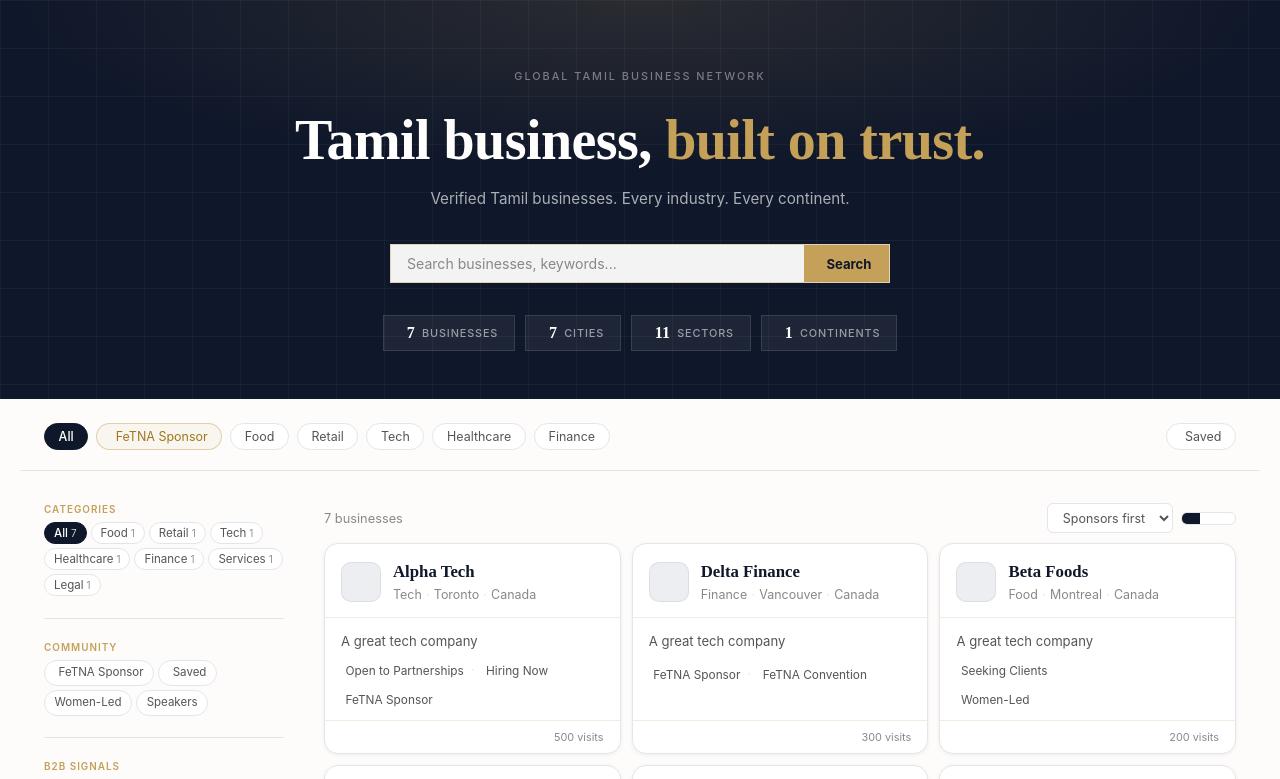
DirectoryClient — business detail modal › opens ClaimModal from non-pro business card
The width and height of the screenshot is (1280, 779).
Beta Foods is non-pro → index 2 after pro-first sort (Alpha Tech, Delta Finance come first)
Step 1. Click the element with class "biz-card" that starts with "Beta Foods" → (1088, 648), box [940,543,1236,754]
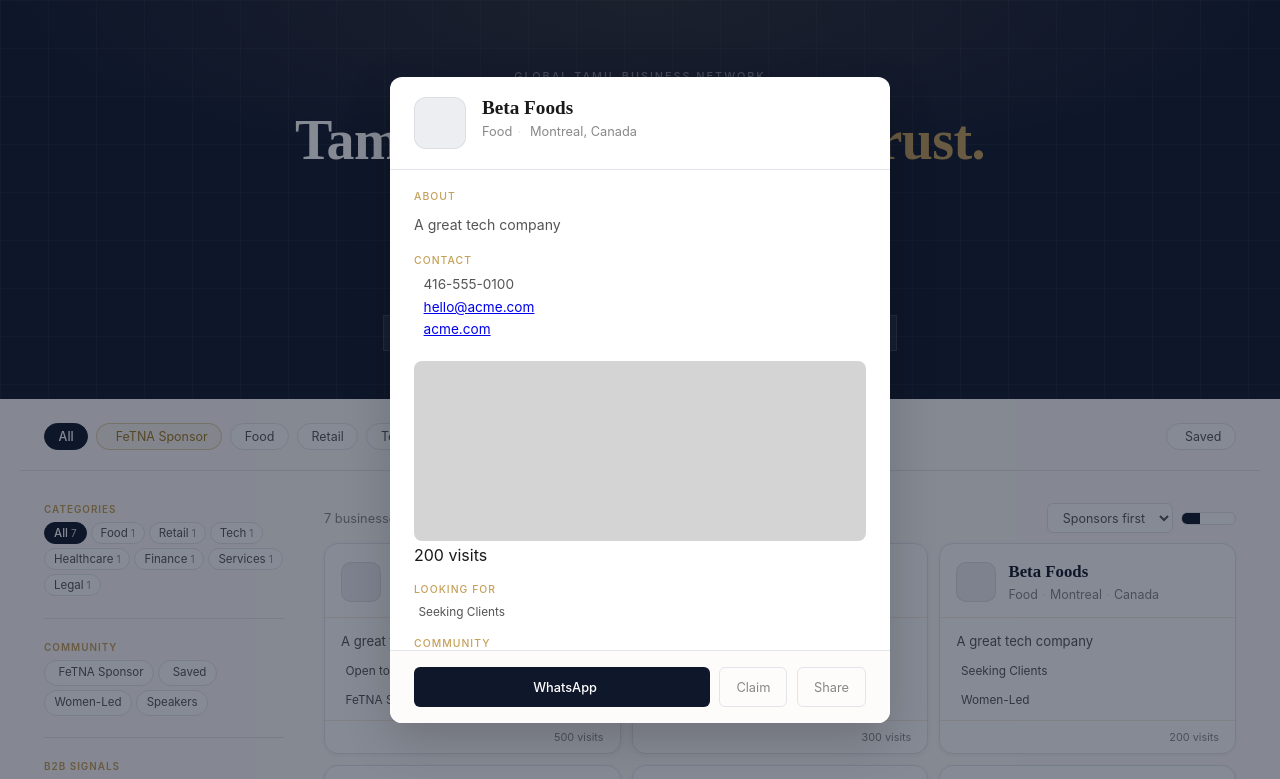
Opens BusinessModal with Claim footer button
Step 2. Click the button "Claim" → (753, 687), box [719,667,787,707]
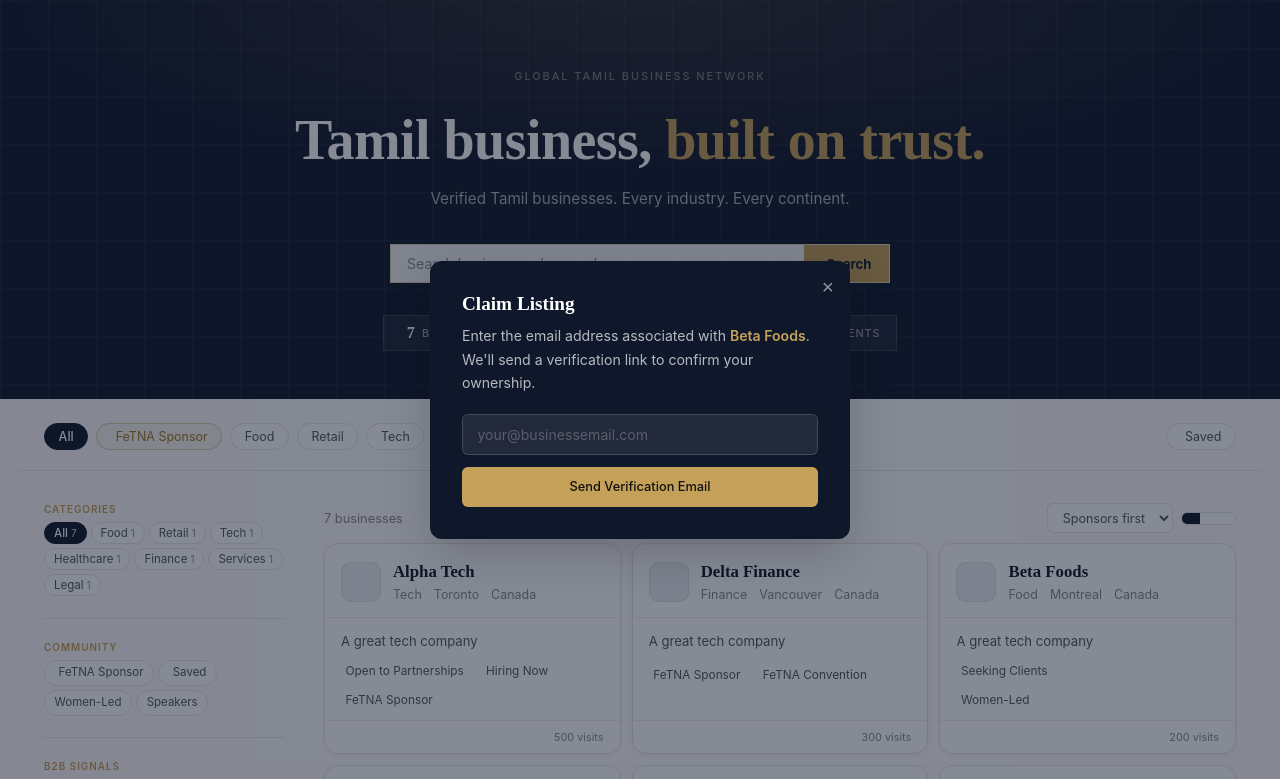
Expected: the field with placeholder "your@businessemail.com" is shown, [462,414,818,455]
